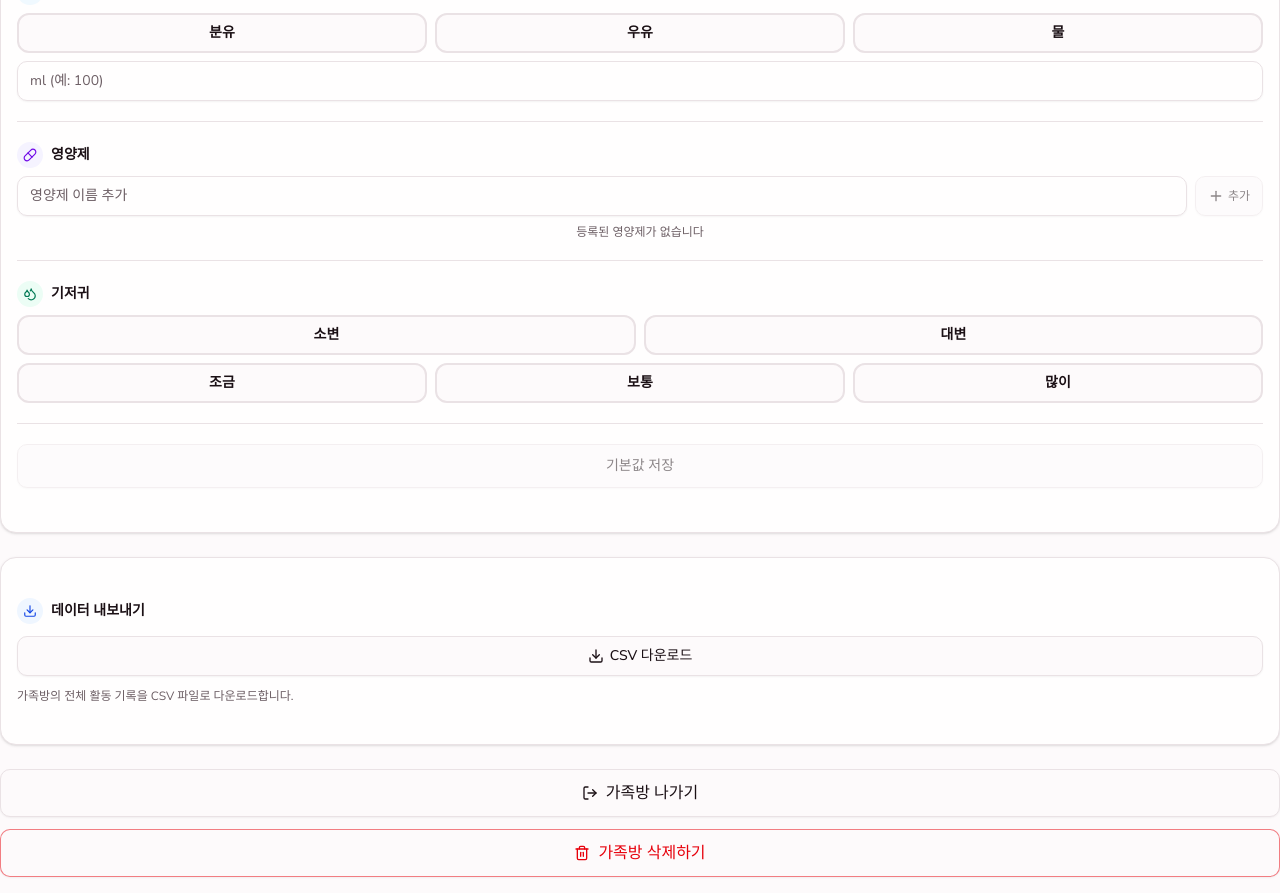
Test: SettingsPage › shows delete dialog with password input
(page scrolled)
Click the button "가족방 삭제하기" at (640, 852), box [0,828,1279,876]
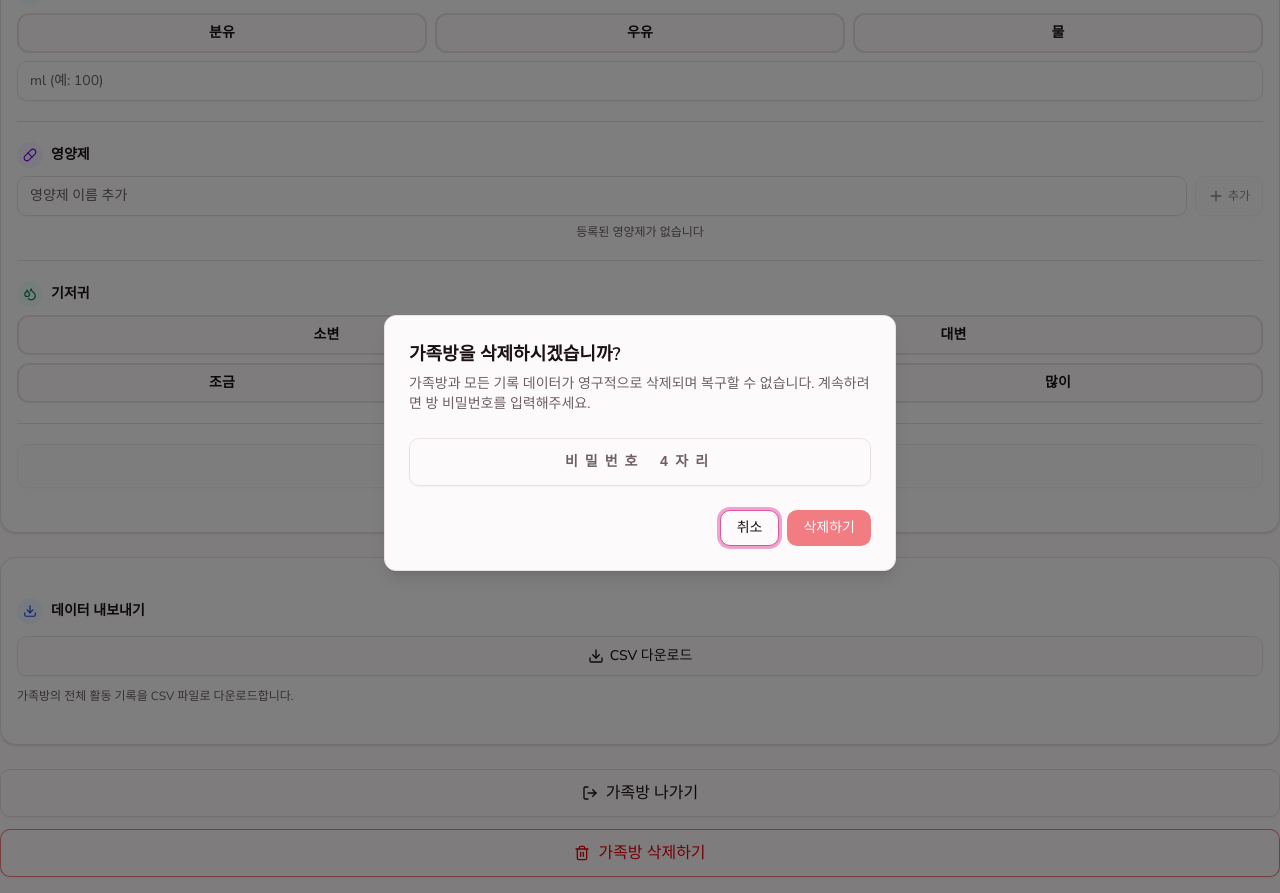
Result: the heading "가족방을 삭제하시겠습니까?" is shown at [409,340,621,368]
Result: the field with placeholder "비밀번호 4자리" is shown at [409,438,871,486]
